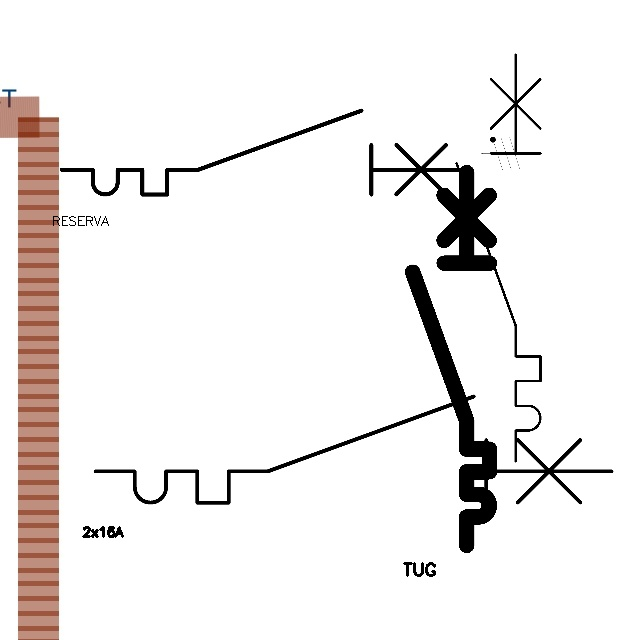interruptor_termomagnetico: (82, 383, 625, 516), (51, 100, 481, 205), (446, 44, 551, 472), (403, 163, 499, 555)
